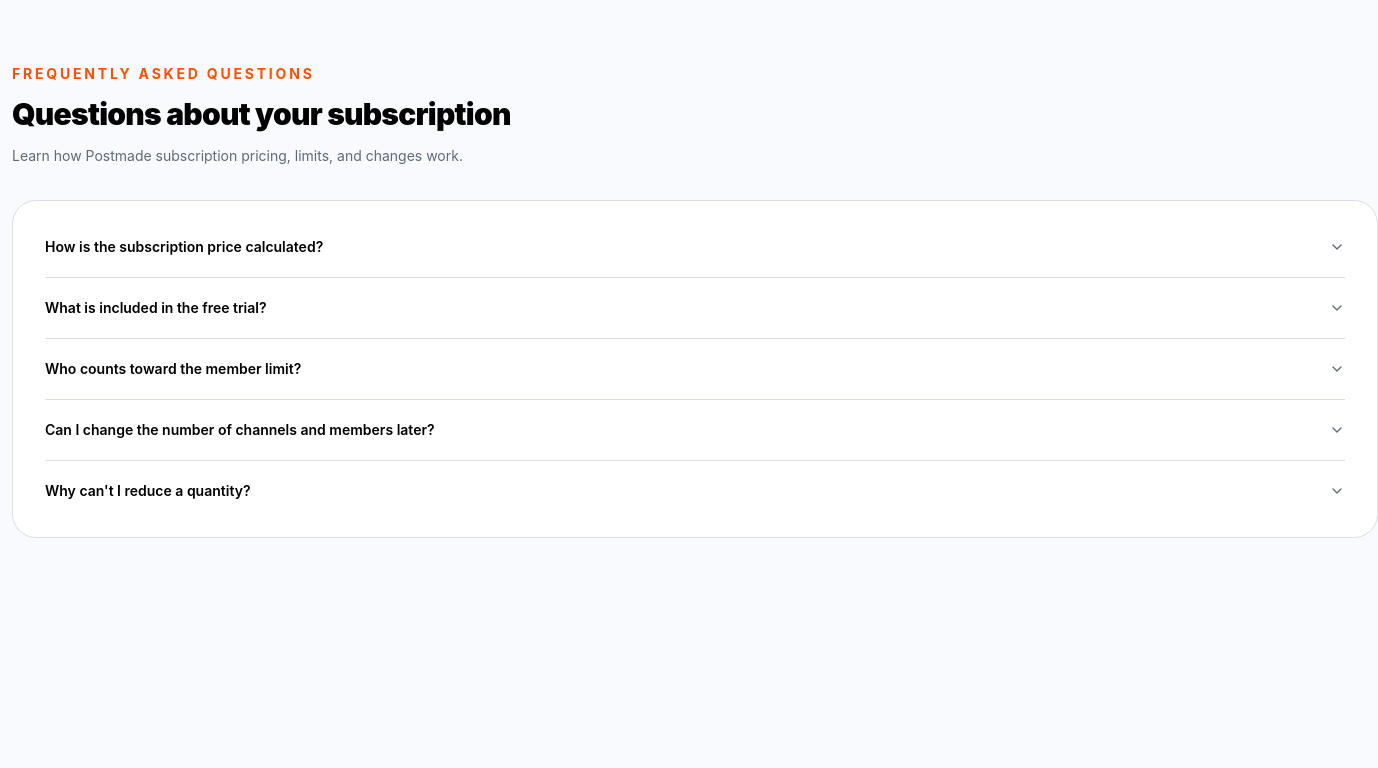
Test: SubscriptionFaq › shows the subscription questions and expands an answer
Click the button "How is the subscription price calculated?" at (184, 246), box x1=45 y1=217 x2=1345 y2=277
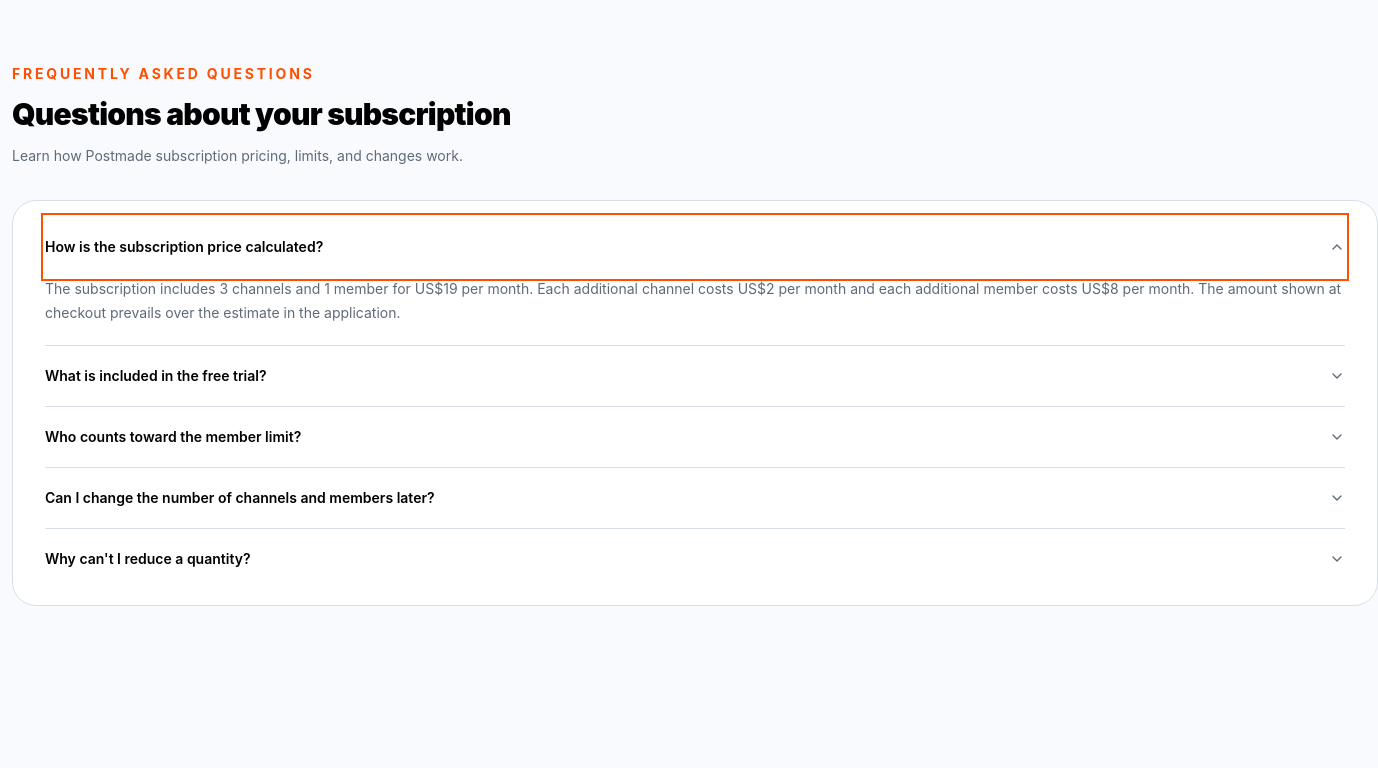
Check: the button "How is the subscription price calculated?" is expanded, box x1=45 y1=217 x2=1345 y2=277
